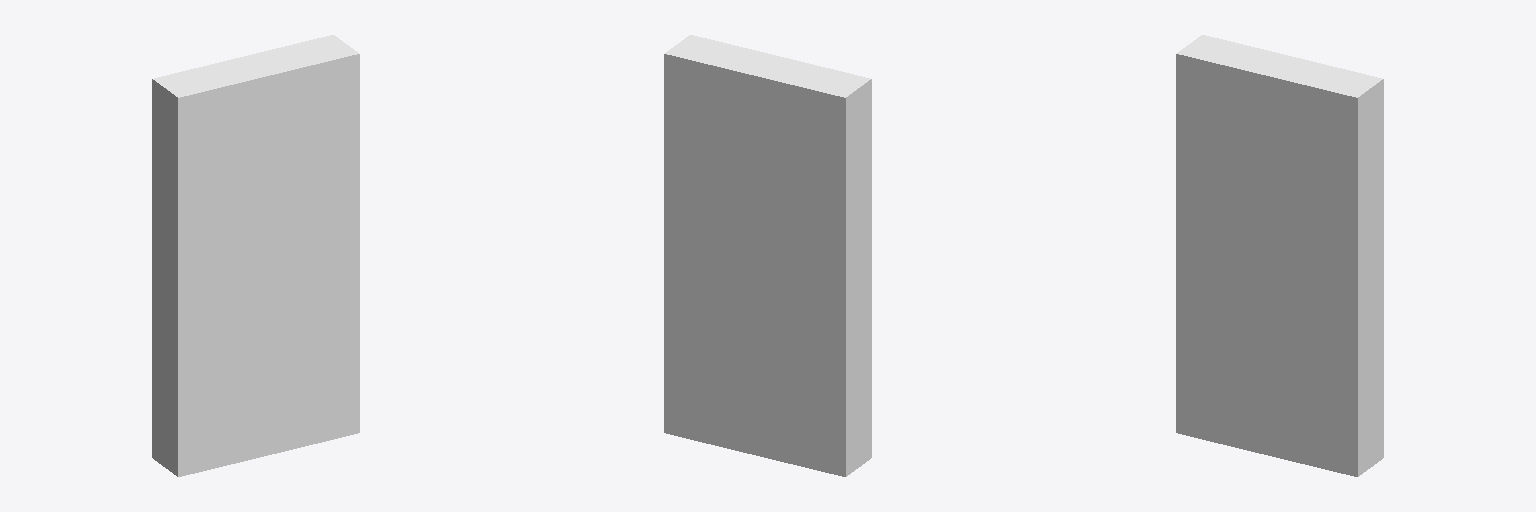
Rendered from YellowHouseParts-67.obj.
3 views of the same model, side by side, from view 1: azimuth 30°, elevation 25°; view 2: azimuth 150°, elevation 25°; view 3: azimuth 330°, elevation 25° (orthographic).
Visible parts, largest first — view 1: object 1; view 2: object 1; view 3: object 1.
Part boxes in pixels (bbox=[...]): object 1: bbox=[152, 35, 359, 476]; object 1: bbox=[664, 35, 871, 476]; object 1: bbox=[1176, 35, 1383, 476].
Size of the model in its own units: 0.4 by 0.8 by 0.1.